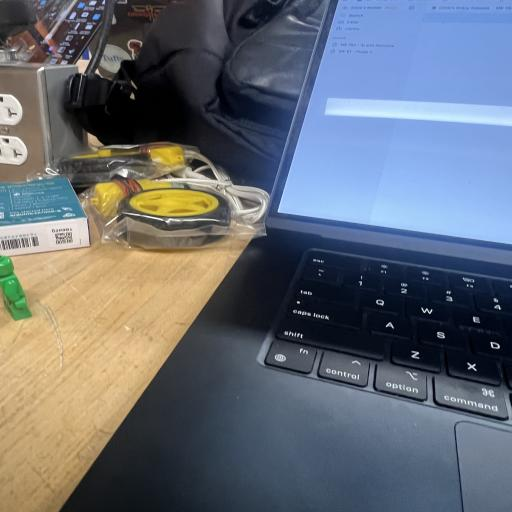green-lego-minifigure-detector: (0, 256, 31, 320)
